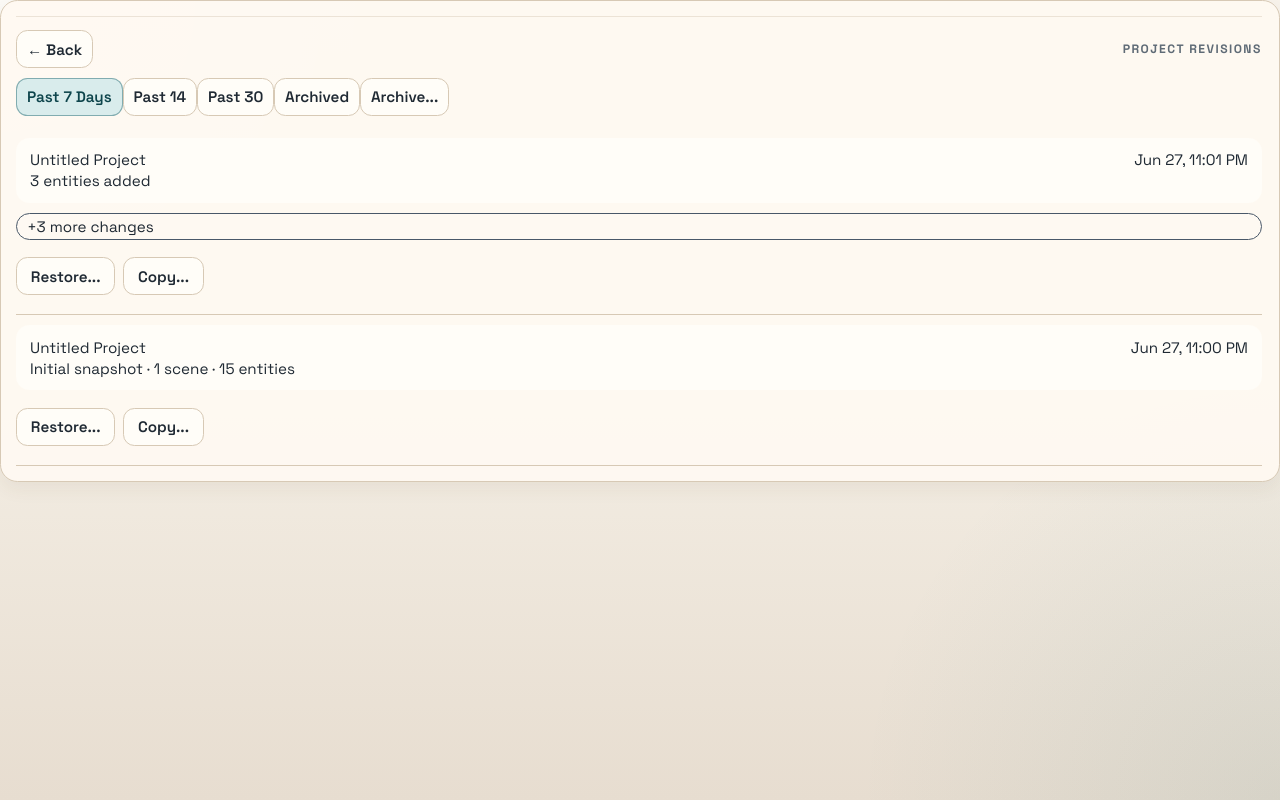
Test case: EntityList project history retention › groups repetitive history rows and expands into named per-item details
Expected: the button with test id "project-revision-row-button-rev-third" shows "3 entities added", [16,138,1262,203]
Click the button with test id "project-revision-teaser-rev-third": (96, 226) [16,212,1262,240]
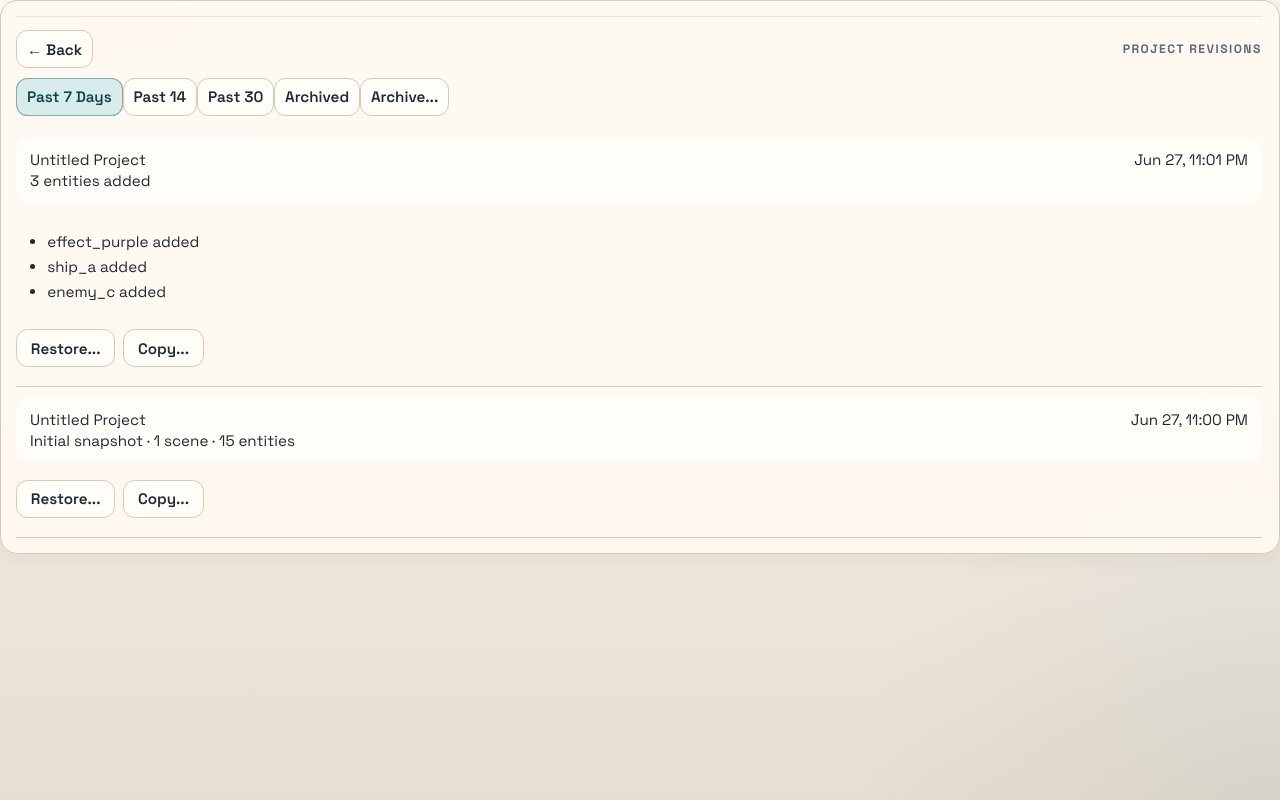
Expected: the button with test id "project-revision-details-rev-third" shows "enemy_c added", [16,220,1262,312]
Expected: the button with test id "project-revision-details-rev-third" shows "ship_a added", [16,220,1262,312]
Expected: the button with test id "project-revision-details-rev-third" shows "effect_purple added", [16,220,1262,312]
